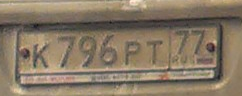character: (55, 33, 77, 70), (77, 34, 96, 69), (123, 38, 145, 68), (99, 34, 118, 66), (31, 42, 52, 70), (145, 38, 164, 68), (173, 27, 190, 55), (191, 27, 205, 55)
